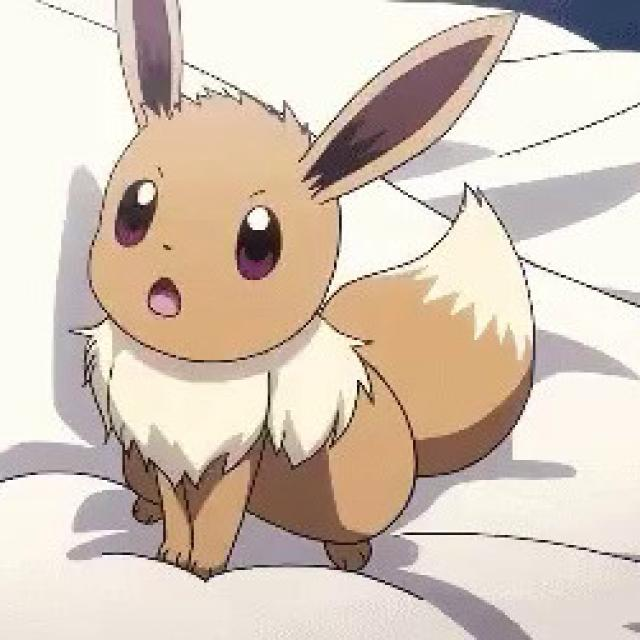Eevee: (84, 39, 474, 544)
